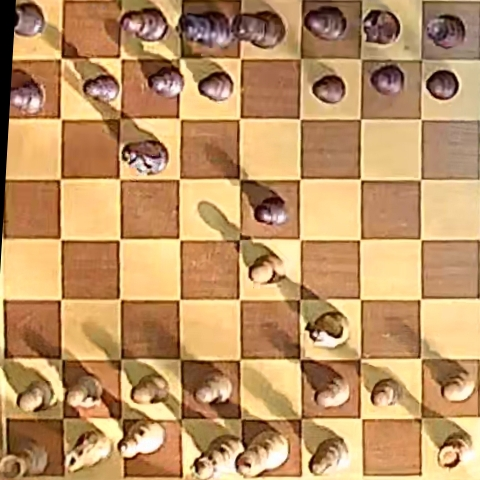black-bishop: (121, 8, 169, 41), (304, 6, 347, 40)
black-king: (233, 12, 285, 48)
black-knight: (123, 140, 168, 174), (363, 9, 400, 44)
black-pawn: (11, 79, 46, 114), (370, 64, 404, 96), (149, 67, 184, 98), (199, 71, 233, 101), (84, 75, 119, 103), (426, 70, 459, 99), (312, 75, 345, 103), (255, 197, 288, 225)
black-queen: (181, 11, 235, 48)
black-rook: (426, 14, 465, 48), (14, 2, 44, 37)
white-bishop: (119, 420, 165, 458), (309, 437, 349, 476)
white-king: (238, 430, 288, 477)
white-knight: (66, 430, 112, 472), (307, 311, 350, 348)
white-pawn: (66, 374, 103, 410), (436, 368, 475, 402), (17, 379, 55, 413), (313, 374, 350, 408), (195, 371, 232, 404), (131, 374, 169, 404), (249, 252, 283, 283), (371, 378, 401, 407)
white-queen: (193, 433, 243, 479)
white-rook: (2, 438, 47, 477), (438, 432, 474, 469)
